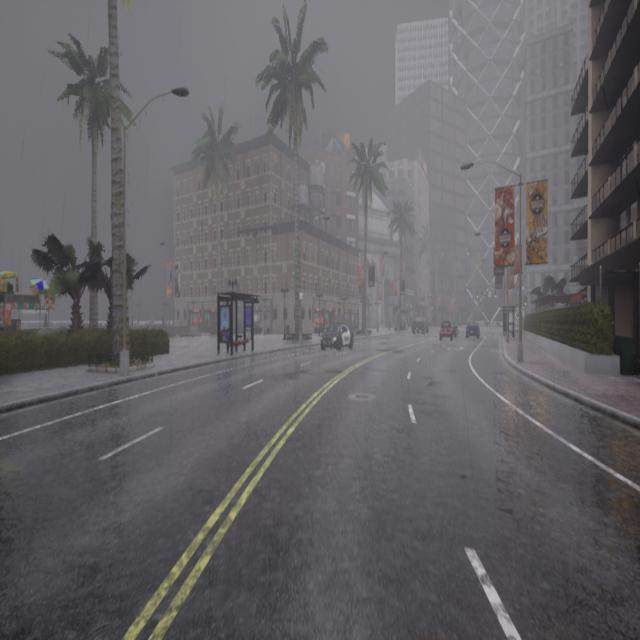9: (524, 296, 528, 308), (476, 290, 479, 299), (494, 290, 497, 299)
bien_hieu_lenh: (524, 302, 527, 306), (494, 295, 497, 298), (476, 295, 478, 299)
